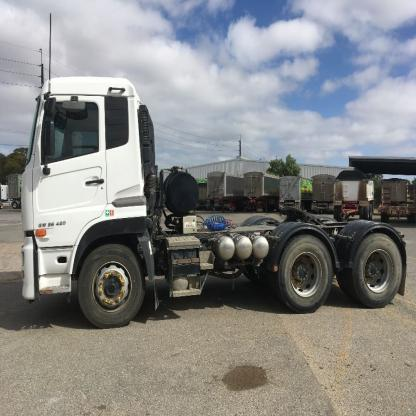dump_truck: (14, 57, 415, 346)
